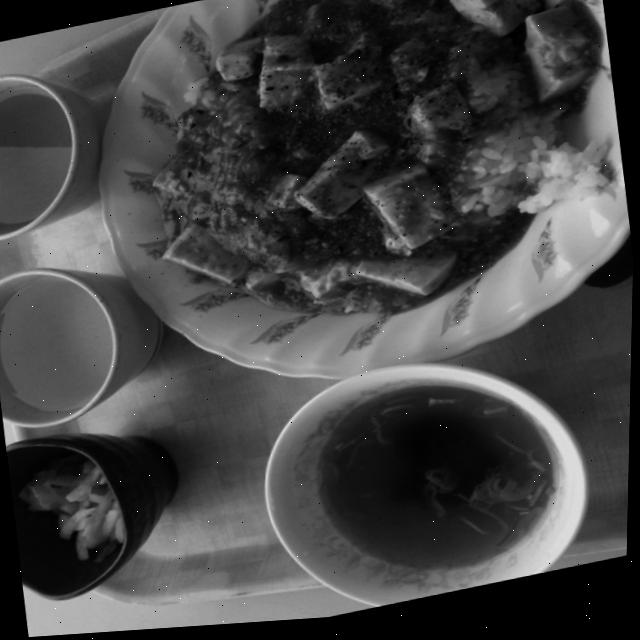汤锅炖物: (250, 331, 611, 626)
